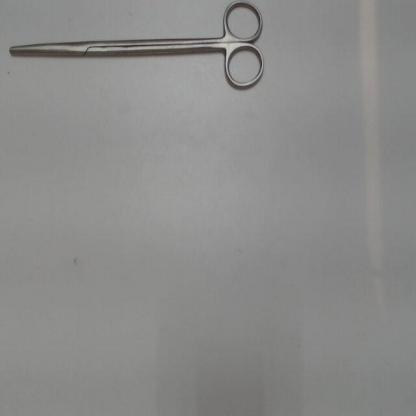9 Metzenbaum Scissors: (8, 2, 270, 96)
